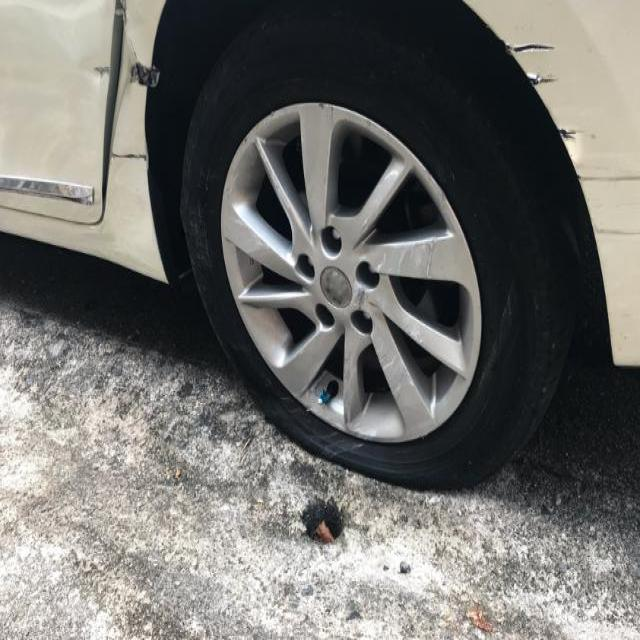Dent: (582, 170, 640, 303), (0, 190, 99, 222), (566, 146, 635, 183), (526, 454, 586, 491), (508, 39, 556, 82), (121, 25, 144, 86), (377, 341, 395, 371), (593, 224, 640, 234), (47, 336, 64, 358), (68, 546, 84, 568), (240, 430, 255, 452), (110, 150, 145, 159), (424, 242, 432, 276), (558, 127, 576, 139), (92, 63, 108, 75), (360, 216, 368, 232), (588, 131, 596, 139), (316, 100, 324, 108)
